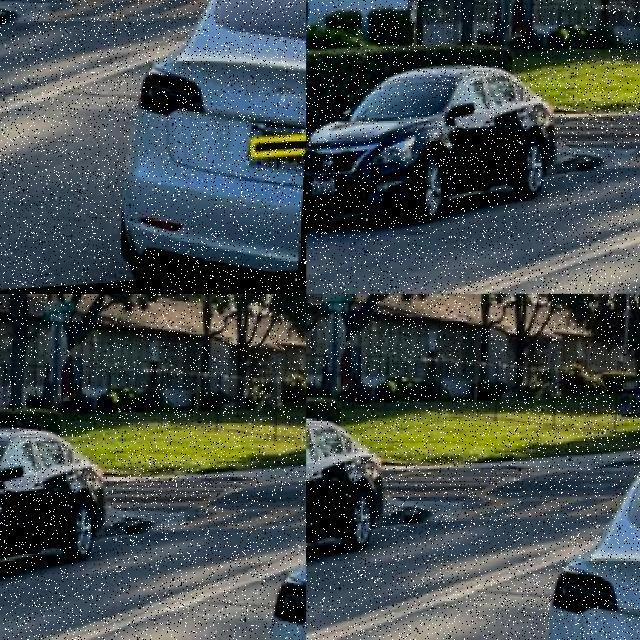LicensePlate: (0, 0, 18, 17), (0, 294, 20, 305)
